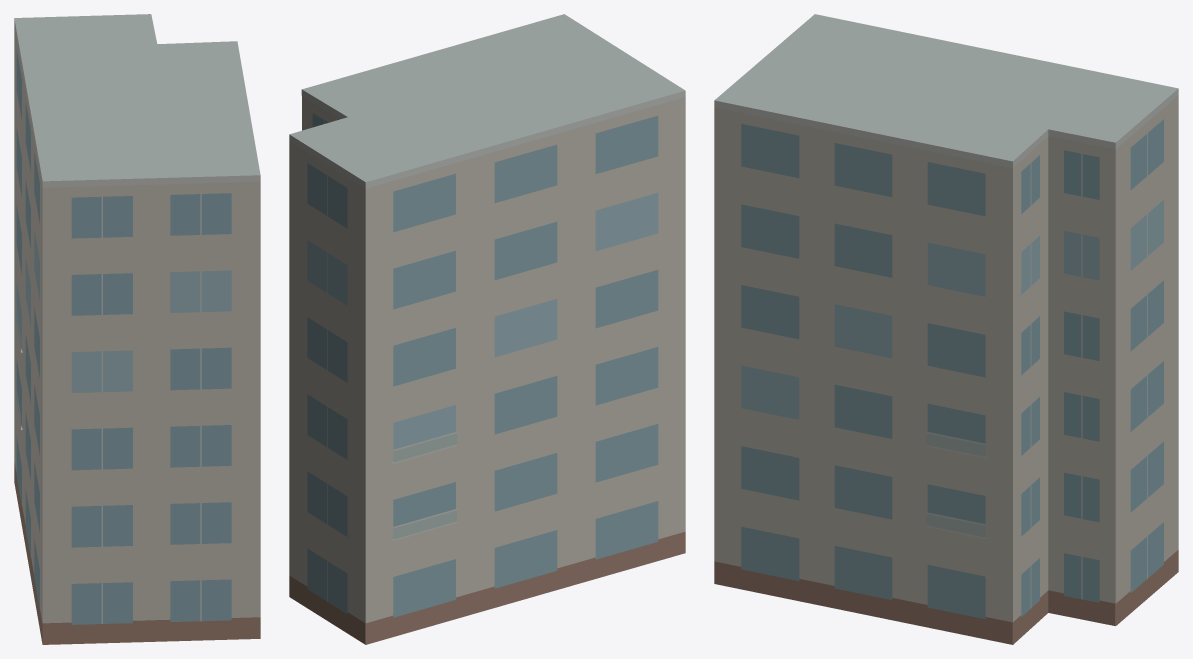
The model's file is survey-upis-32957873.glb.
3 renders of one model, left to right at view 1: azimuth 30°, elevation 25°; view 2: azimuth 150°, elevation 25°; view 3: azimuth 270°, elevation 25°, orthographic. The views are drawn at different scales.
Visible parts, largest first — view 1: survey-upis-32957873.tmp; view 2: survey-upis-32957873.tmp; view 3: survey-upis-32957873.tmp.
Boxes of the visible parts, x1,y1,x2,y2 form: survey-upis-32957873.tmp: (14, 14, 260, 644); survey-upis-32957873.tmp: (289, 14, 685, 644); survey-upis-32957873.tmp: (714, 14, 1178, 644).
Bounding box in the file's own units: 11.59 × 17.7 × 15.42.
